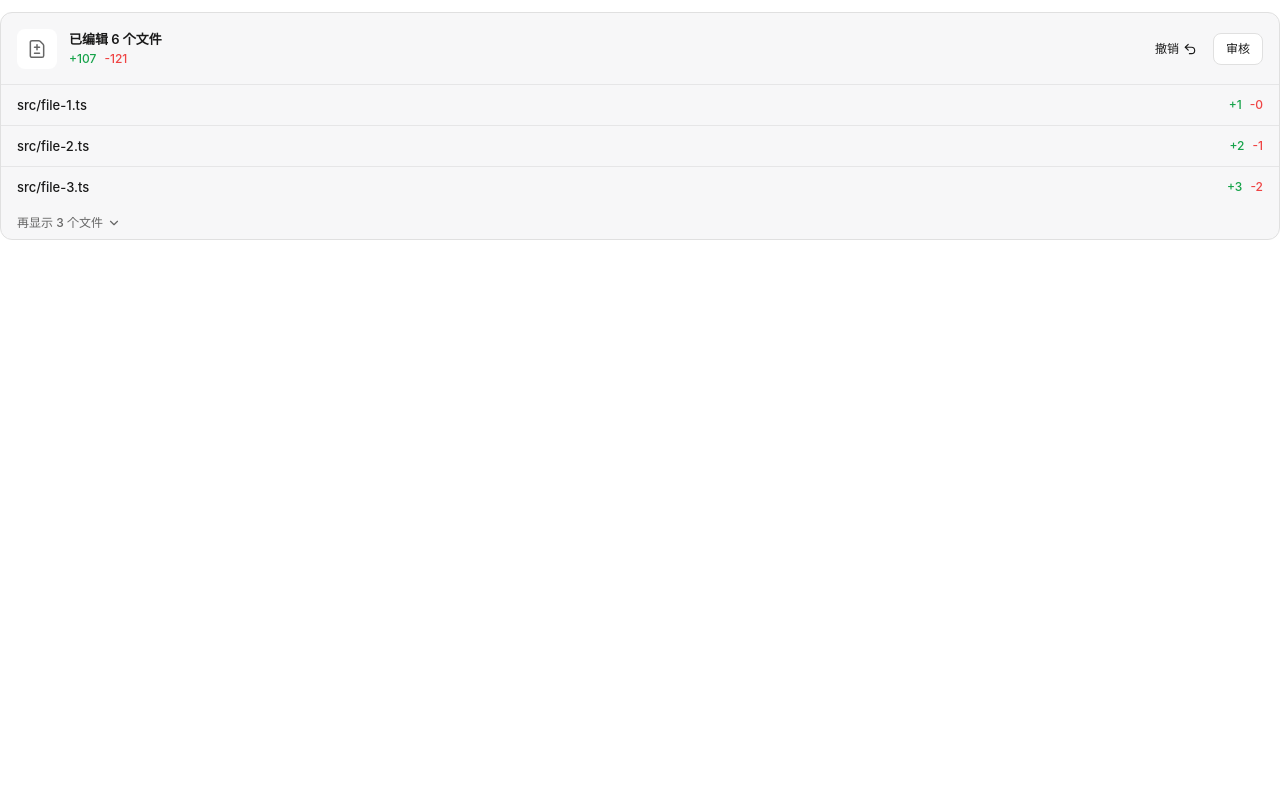
Test: FileChangesCard › confirms and reverts an active server artifact marked as revertible
Click the button with test id "revert-file-changes-button" at coordinates (1176, 48), box x1=1147 y1=32 x2=1205 y2=64
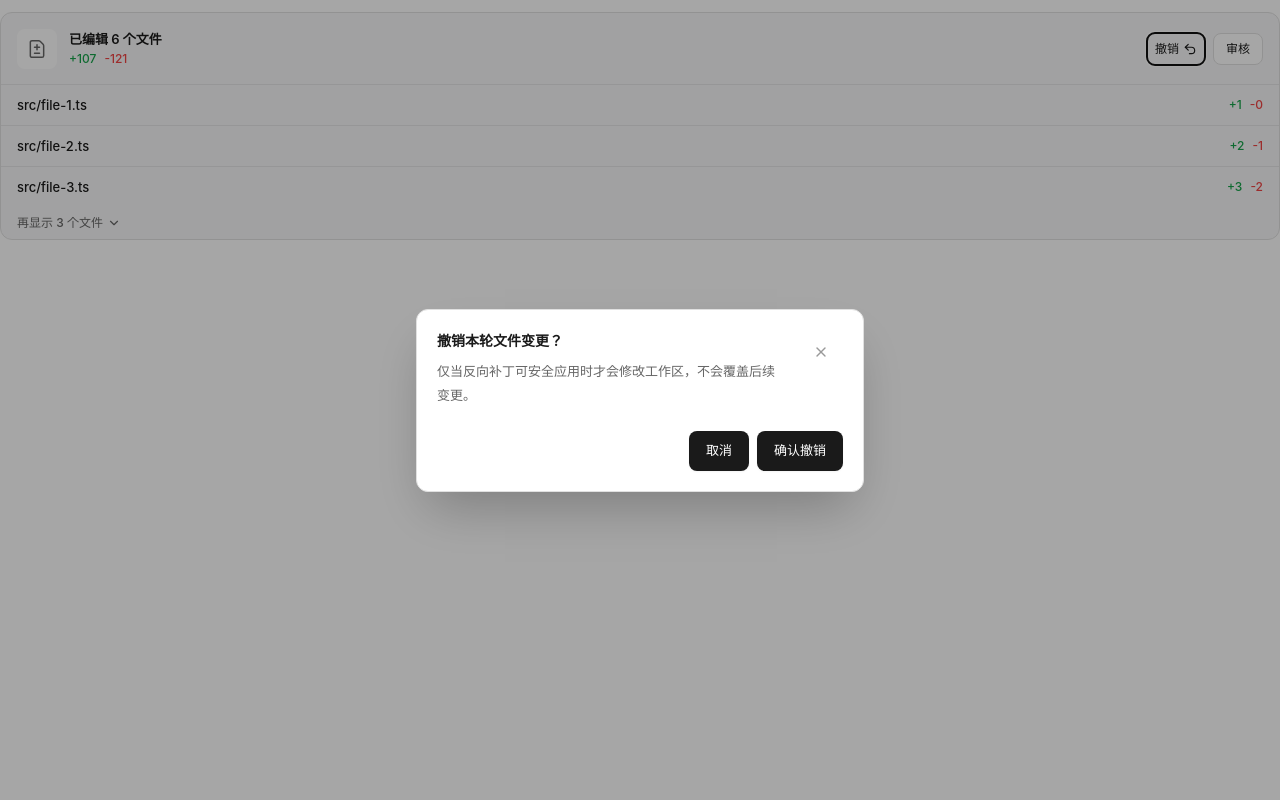
Now the dialog is shown, box x1=416 y1=308 x2=864 y2=492
Click the button with test id "confirm-revert-file-changes-button" at coordinates (800, 450), box x1=757 y1=430 x2=843 y2=470
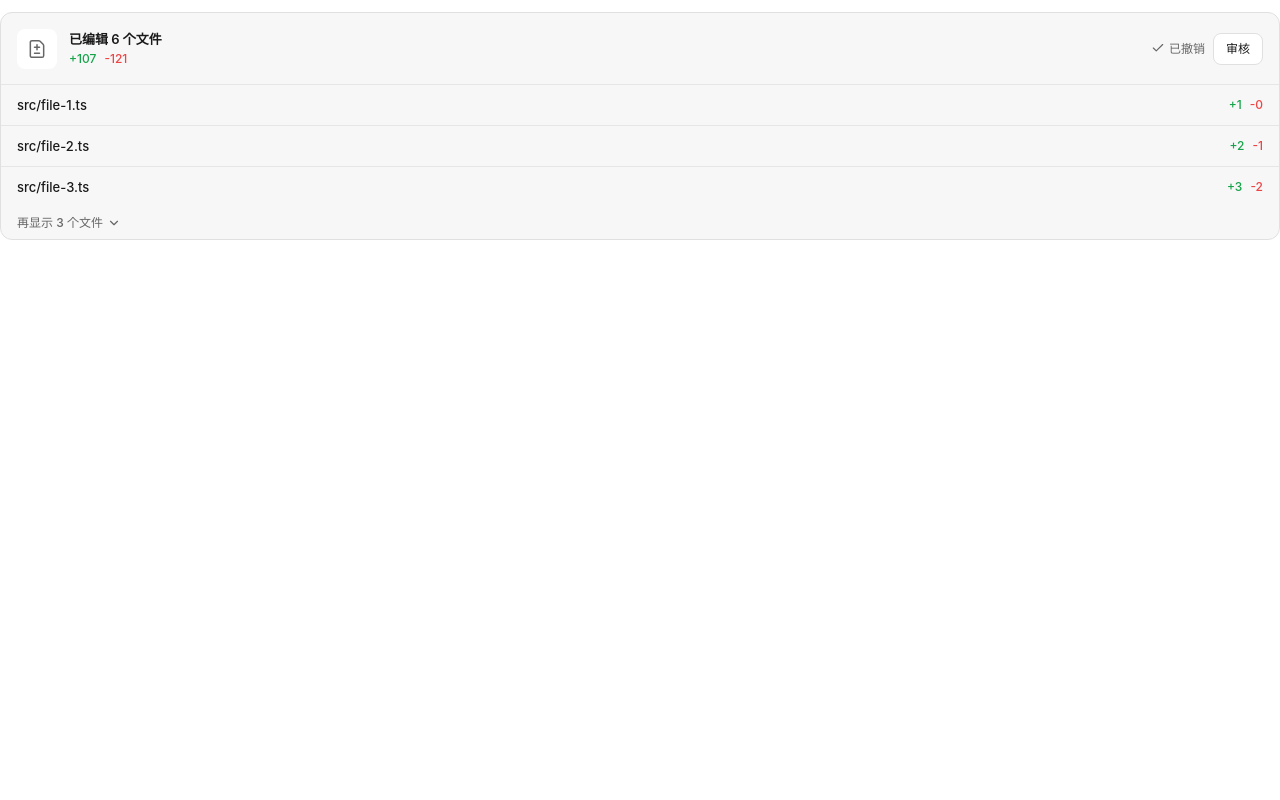
Now the dialog is gone
Now the text "已撤销" is shown, box x1=1151 y1=40 x2=1205 y2=56
Now the button with test id "revert-file-changes-button" is gone
